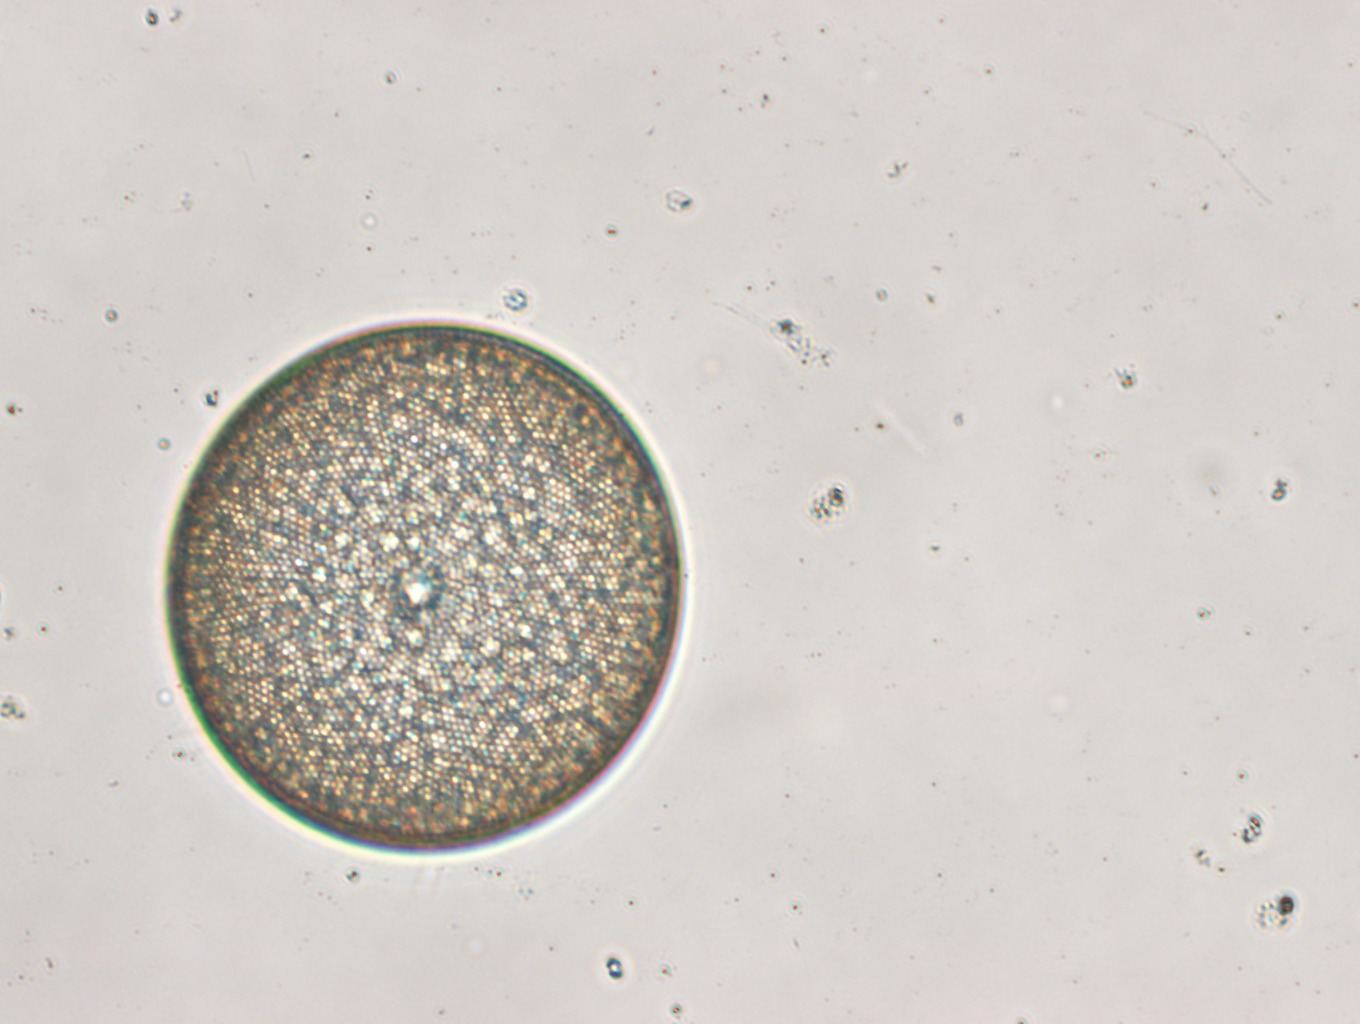coscinodiscus: (162, 316, 687, 851)
